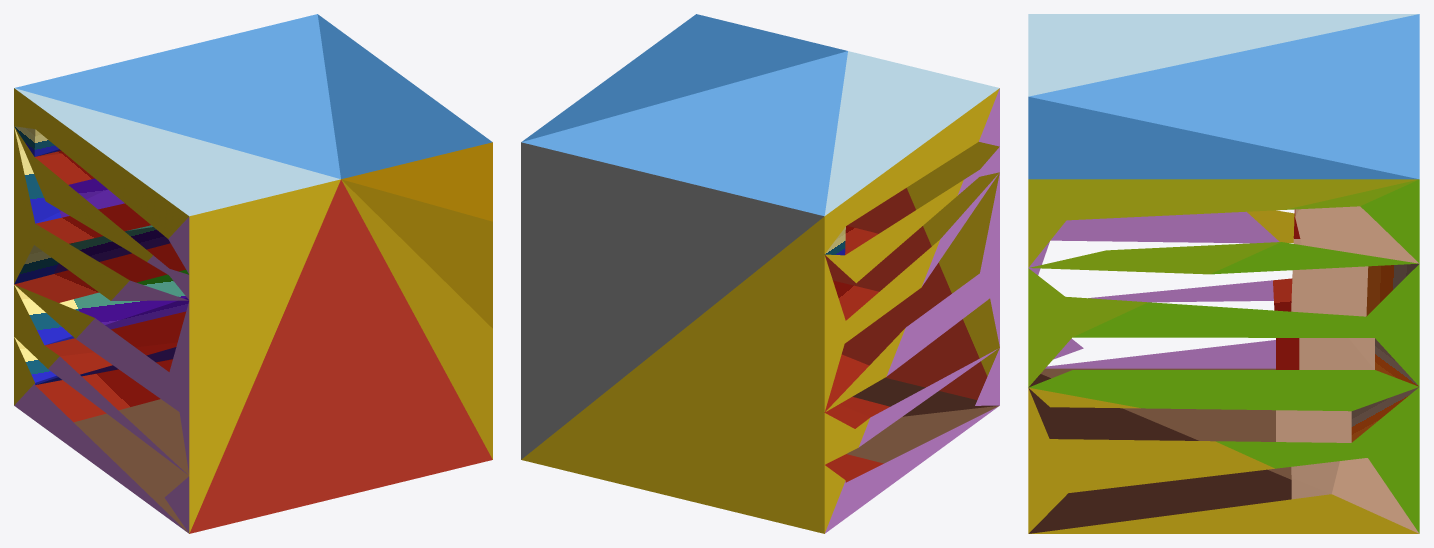
The model's file is DefaultCubeWithWithManyManyCutedPolys_NotFinished.dae.
3 views of the same model, side by side, from view 1: azimuth 30°, elevation 25°; view 2: azimuth 150°, elevation 25°; view 3: azimuth 270°, elevation 25° (orthographic). The views are drawn at different scales.
Parts seen in each view (by area): view 1: Original; view 2: Original; view 3: Original.
Boxes of the visible parts, x1,y1,x2,y2 form: Original: [14, 14, 492, 533]; Original: [521, 14, 999, 533]; Original: [1028, 14, 1419, 533].
Size of the model in its own units: 1 by 1 by 1.
Materials: 1 (1 with a texture image).
